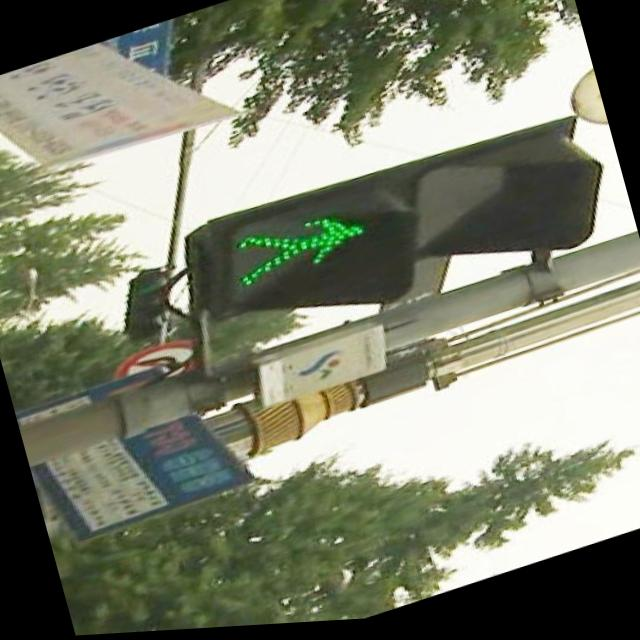green_light: (228, 193, 378, 319)
